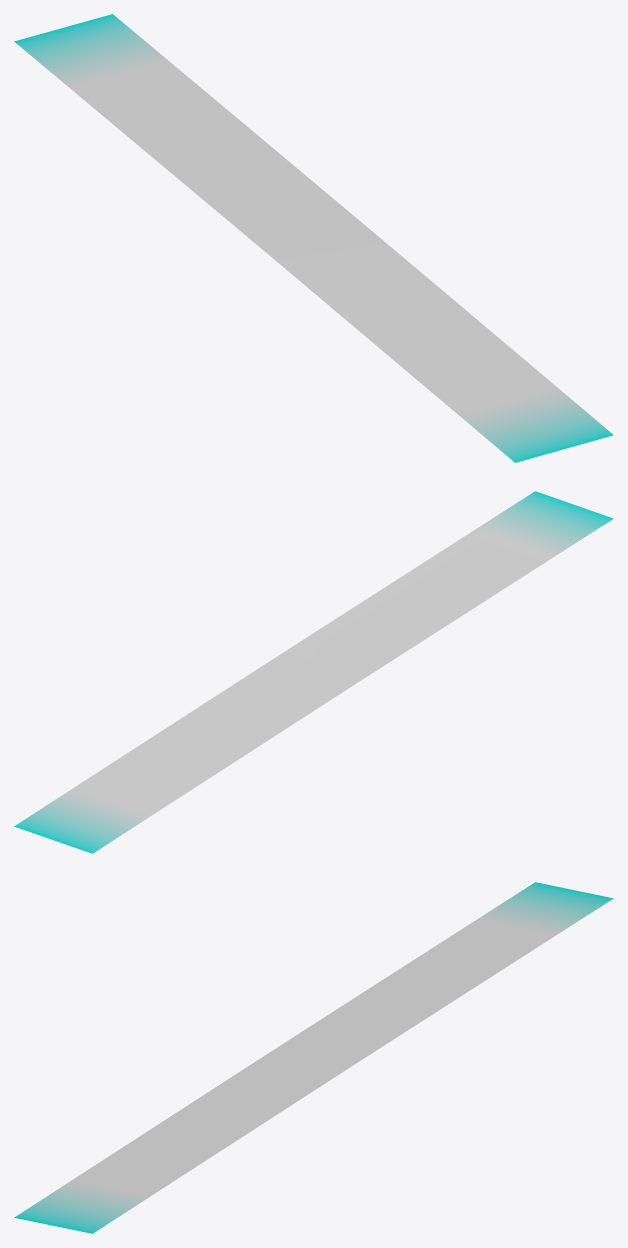
3 renders of one model, top to bottom at view 1: azimuth 30°, elevation 25°; view 2: azimuth 150°, elevation 25°; view 3: azimuth 330°, elevation 25°, orthographic. The views are drawn at different scales.
Visible parts, largest first — view 1: SpaceCenter_Long3_GenerateRoad_Asphalt_PCGMesh_Decal_Mesh_x1; view 2: SpaceCenter_Long3_GenerateRoad_Asphalt_PCGMesh_Decal_Mesh_x1; view 3: SpaceCenter_Long3_GenerateRoad_Asphalt_PCGMesh_Decal_Mesh_x1.
Part boxes in pixels (bbox=[...]): SpaceCenter_Long3_GenerateRoad_Asphalt_PCGMesh_Decal_Mesh_x1: bbox=[14, 14, 613, 462]; SpaceCenter_Long3_GenerateRoad_Asphalt_PCGMesh_Decal_Mesh_x1: bbox=[14, 491, 613, 853]; SpaceCenter_Long3_GenerateRoad_Asphalt_PCGMesh_Decal_Mesh_x1: bbox=[14, 882, 613, 1233].
Bounding box in the file's own units: 365 × 56.85 × 2.72.
